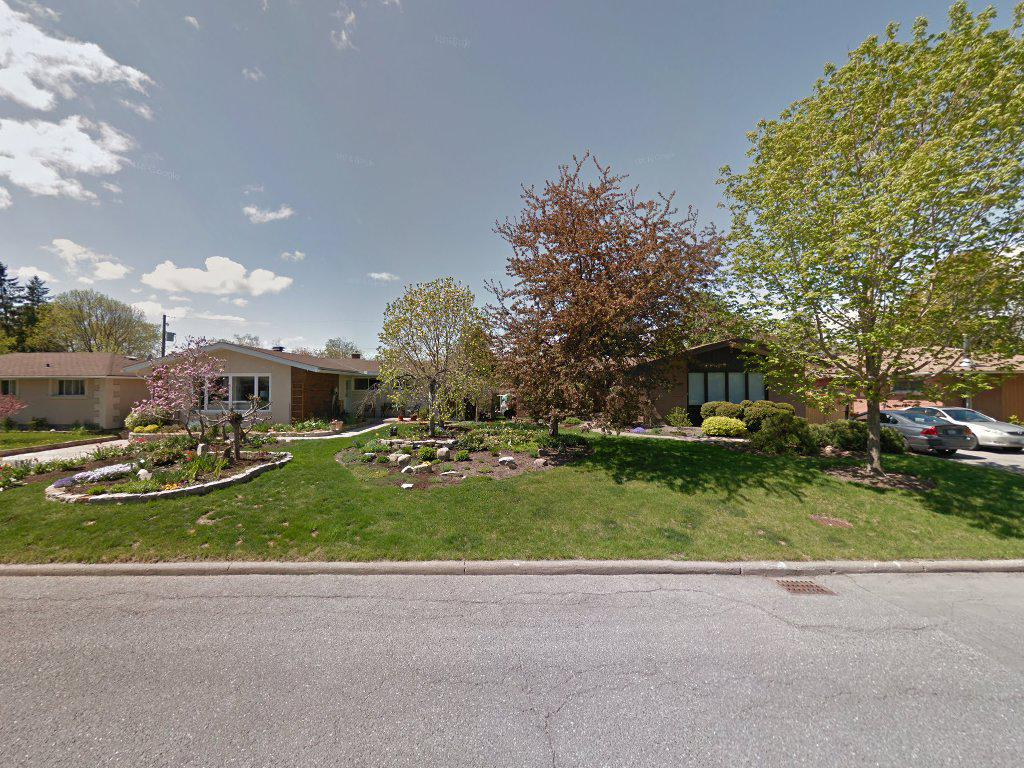trunk: (864, 349, 888, 492)
